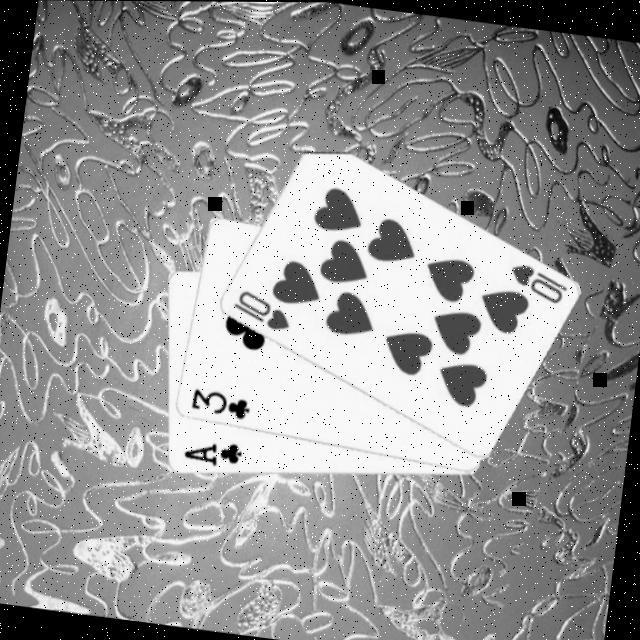10H: (227, 287, 296, 335), (503, 260, 572, 308)
3C: (186, 385, 254, 425)
AC: (180, 436, 245, 472)
